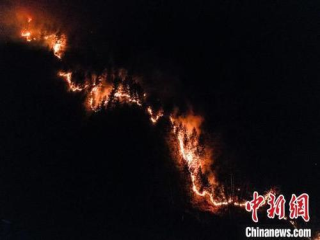fire: (163, 110, 232, 208), (56, 68, 155, 117), (11, 12, 66, 58)
